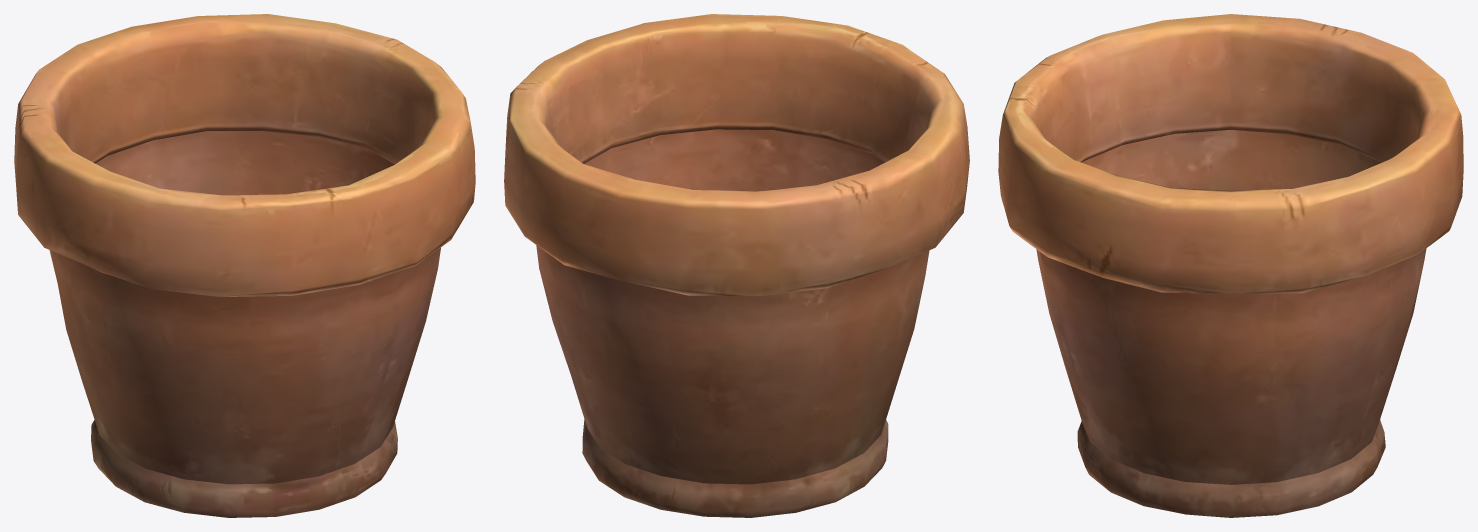
3 views of the same model, side by side, from view 1: azimuth 30°, elevation 25°; view 2: azimuth 150°, elevation 25°; view 3: azimuth 270°, elevation 25° (orthographic).
Visible parts, largest first — view 1: SM_Potted_Plant_01v1_LOD0; view 2: SM_Potted_Plant_01v1_LOD0; view 3: SM_Potted_Plant_01v1_LOD0.
Boxes of the visible parts, <box> form: SM_Potted_Plant_01v1_LOD0: <box>14,14,475,517</box>; SM_Potted_Plant_01v1_LOD0: <box>504,14,969,517</box>; SM_Potted_Plant_01v1_LOD0: <box>998,14,1463,517</box>.
Size of the model in its own units: 0.4731 by 0.3912 by 0.4733.
1 material, 1 textured.
